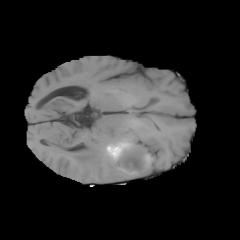glioma: (74, 128, 154, 176)
